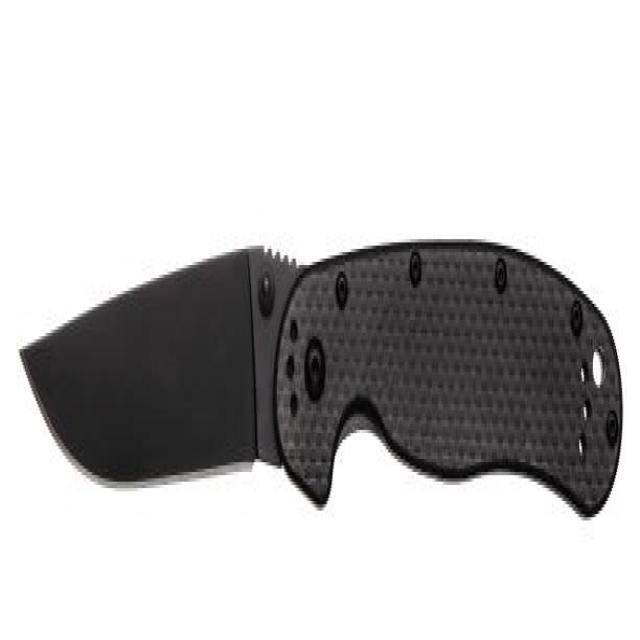knife: (17, 229, 627, 584)
